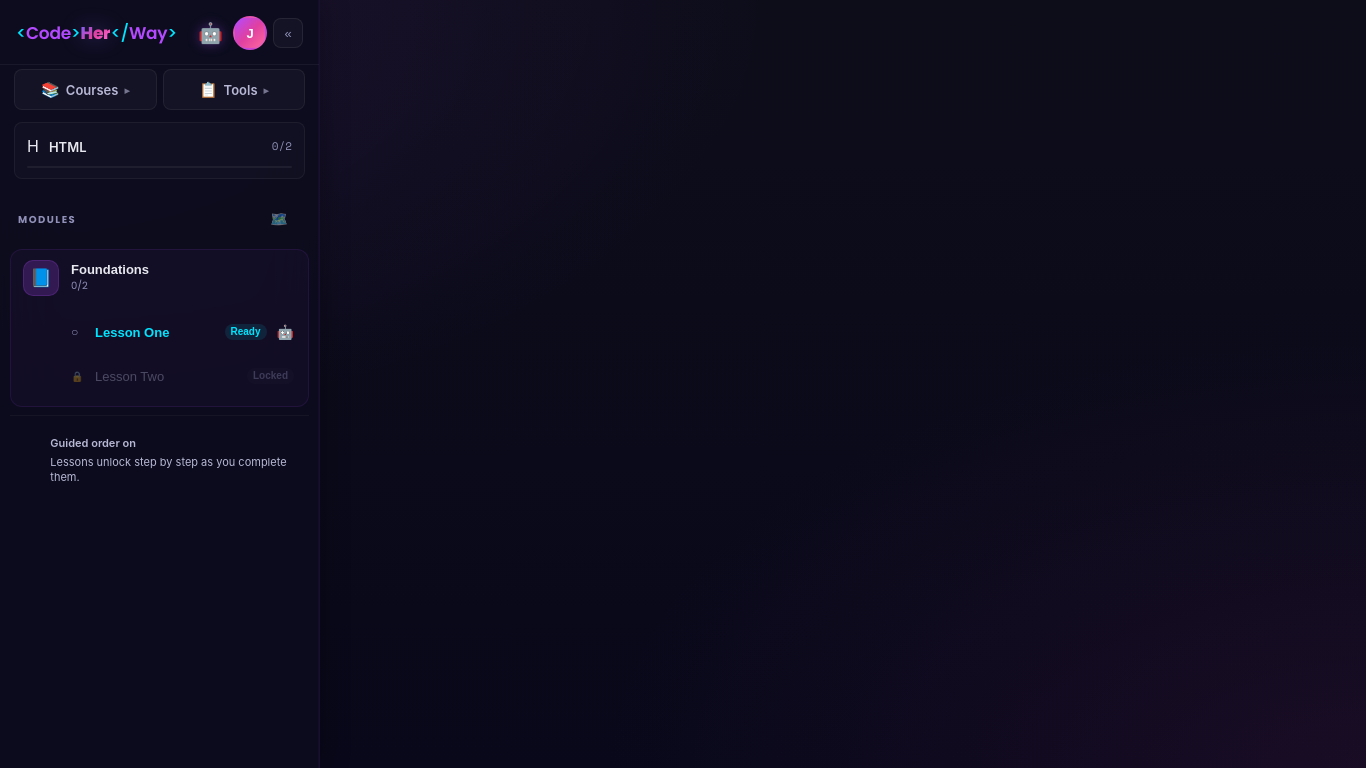
Test: Sidebar › switches from Courses to Tools as the active sidebar tab
This screenshot has width=1366, height=768.
Step 1. Click the button "📚 Courses ▸" → x=85, y=90, box [14,69,156,110]
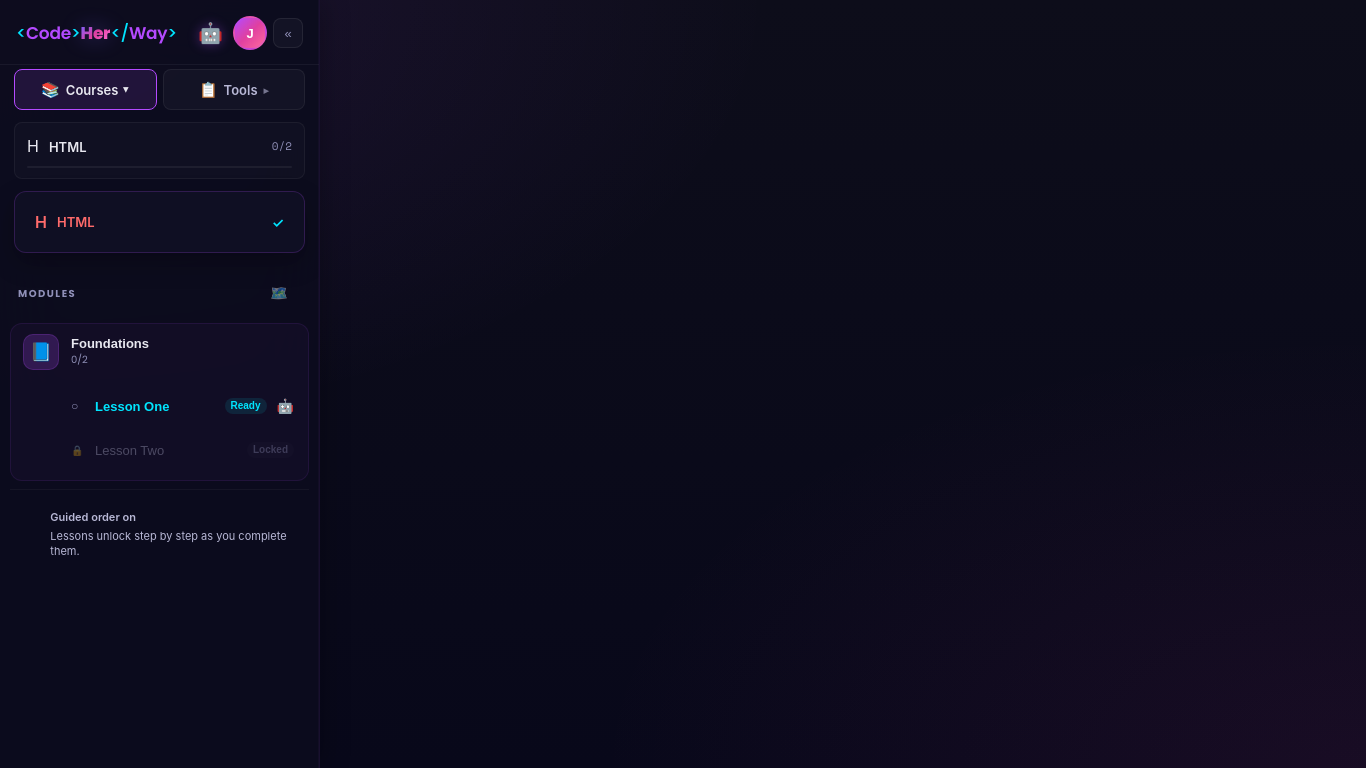
Now the button "📚 Courses ▸" is expanded, box [14,69,156,110]
Step 2. Click the button "📋 Tools ▸" → x=234, y=90, box [162,69,305,110]
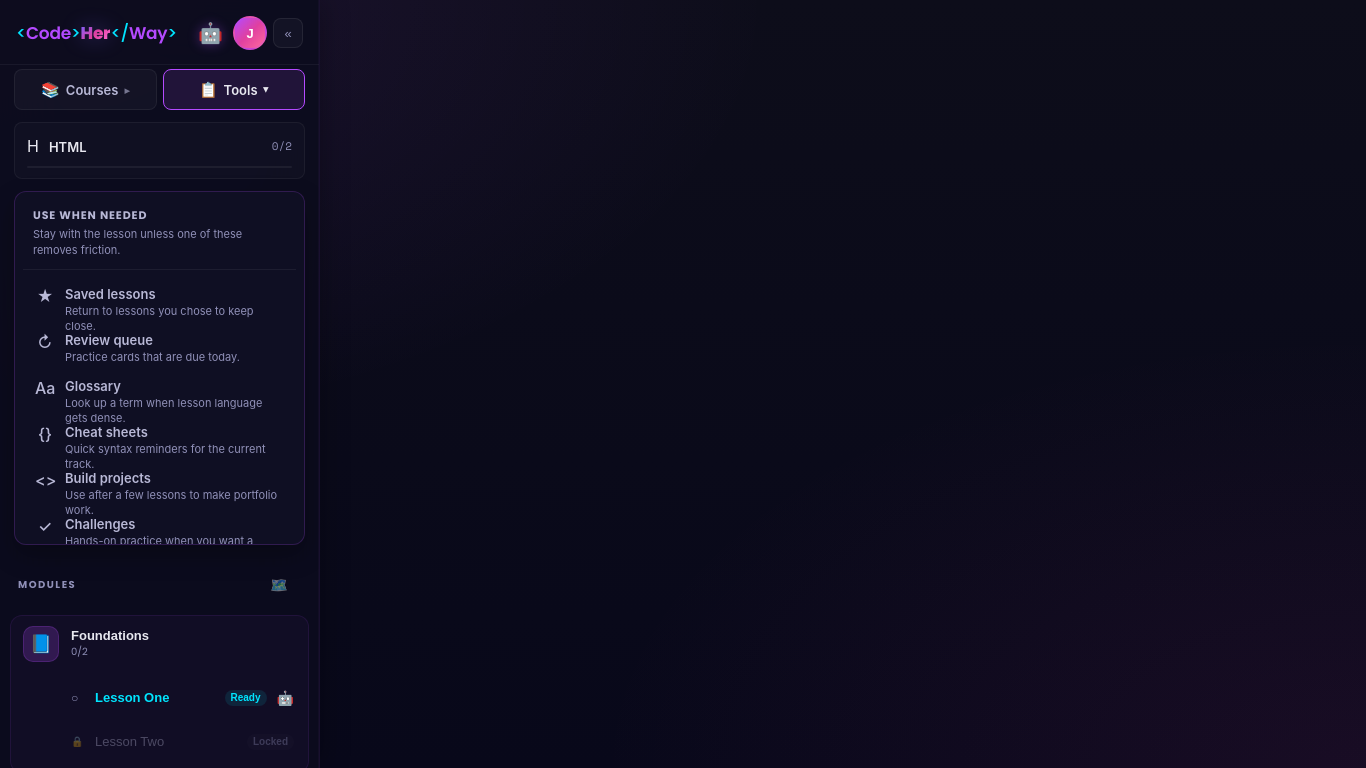
Now the button "📚 Courses ▸" is collapsed, box [14,69,156,110]
Now the button "📋 Tools ▸" is expanded, box [162,69,305,110]
Now the menu named "tools" is shown, box [14,191,305,545]
